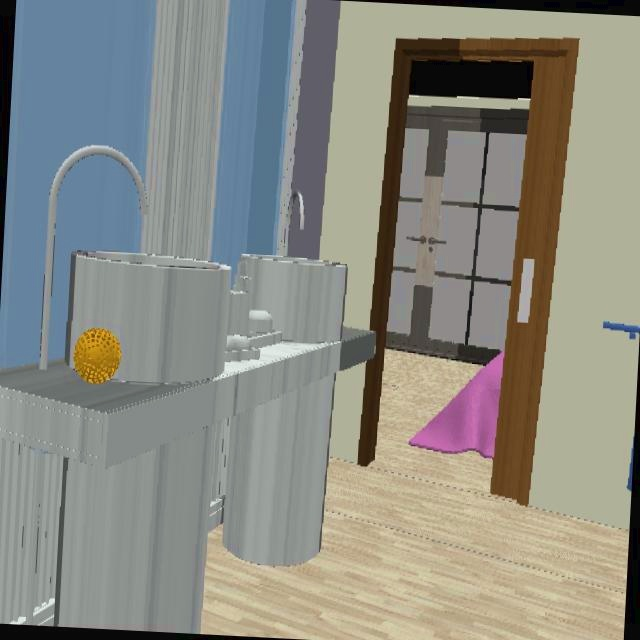washbasin: (65, 252, 347, 391)
